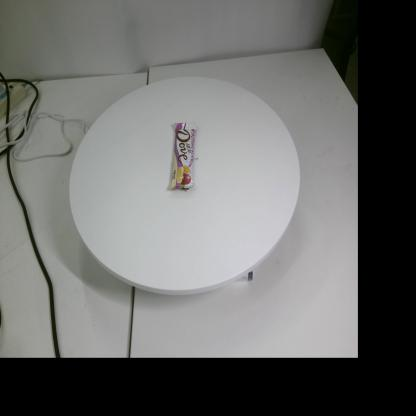Chocolate: (168, 122, 196, 190)
